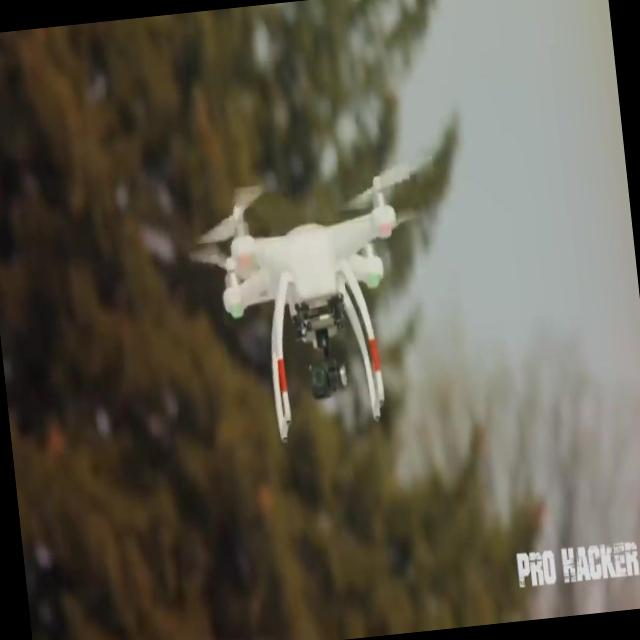drone: (211, 176, 420, 446)
